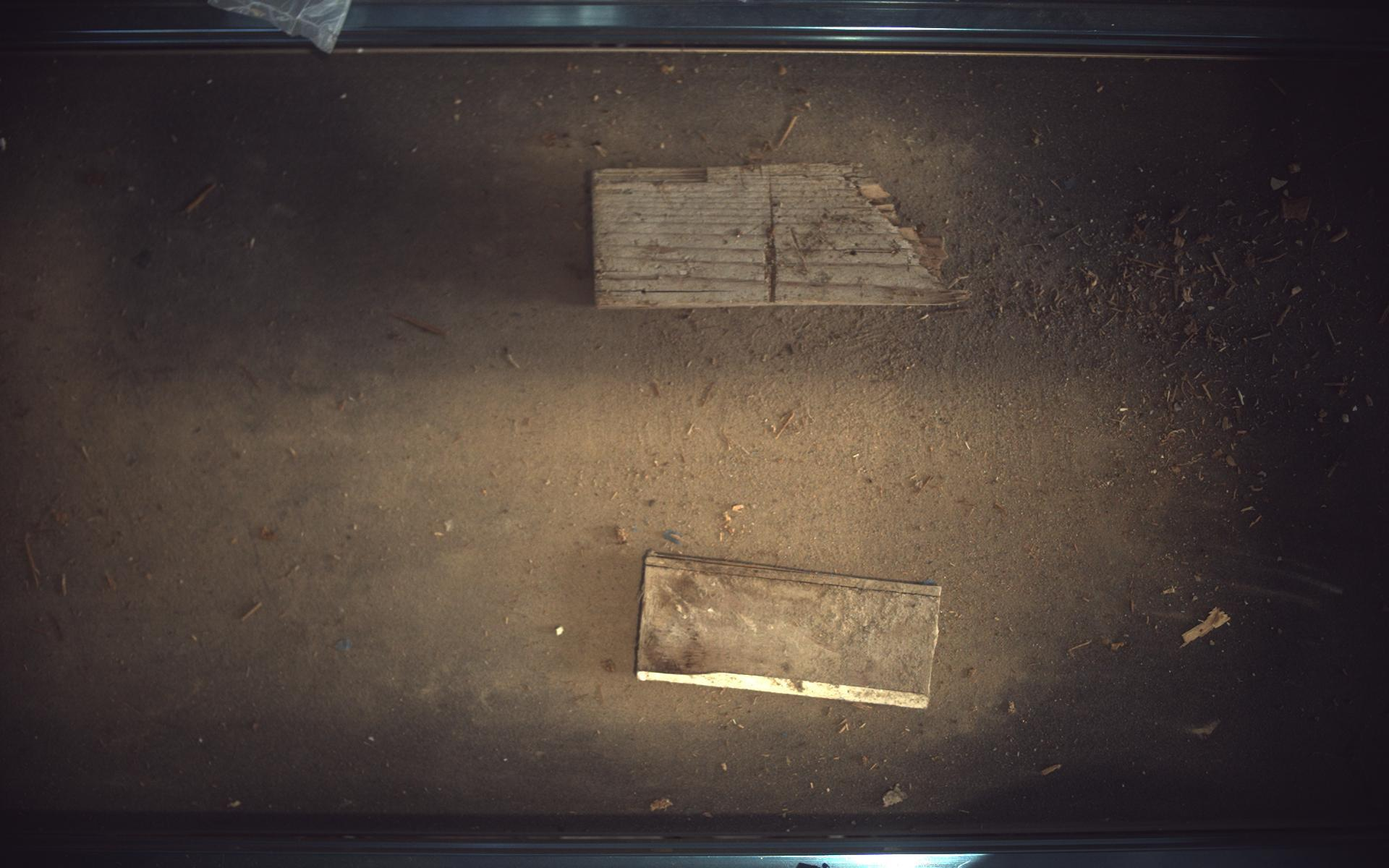wood: (592, 163, 970, 307), (637, 553, 943, 710)
